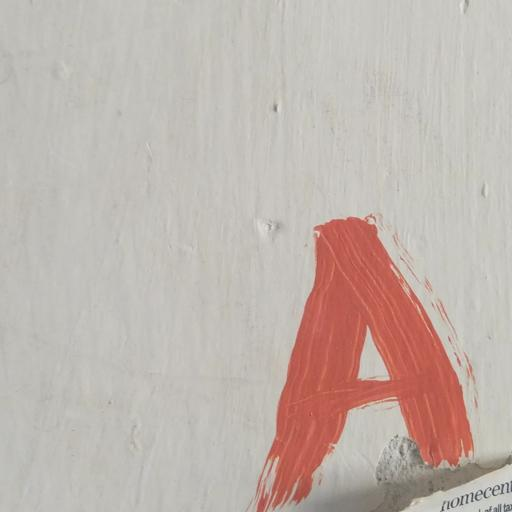stain: (257, 200, 489, 512)
